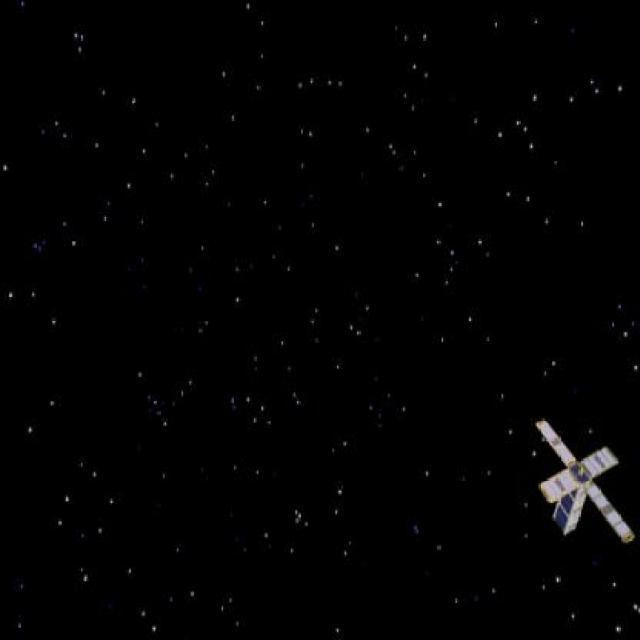satellite: (534, 415, 640, 555)
